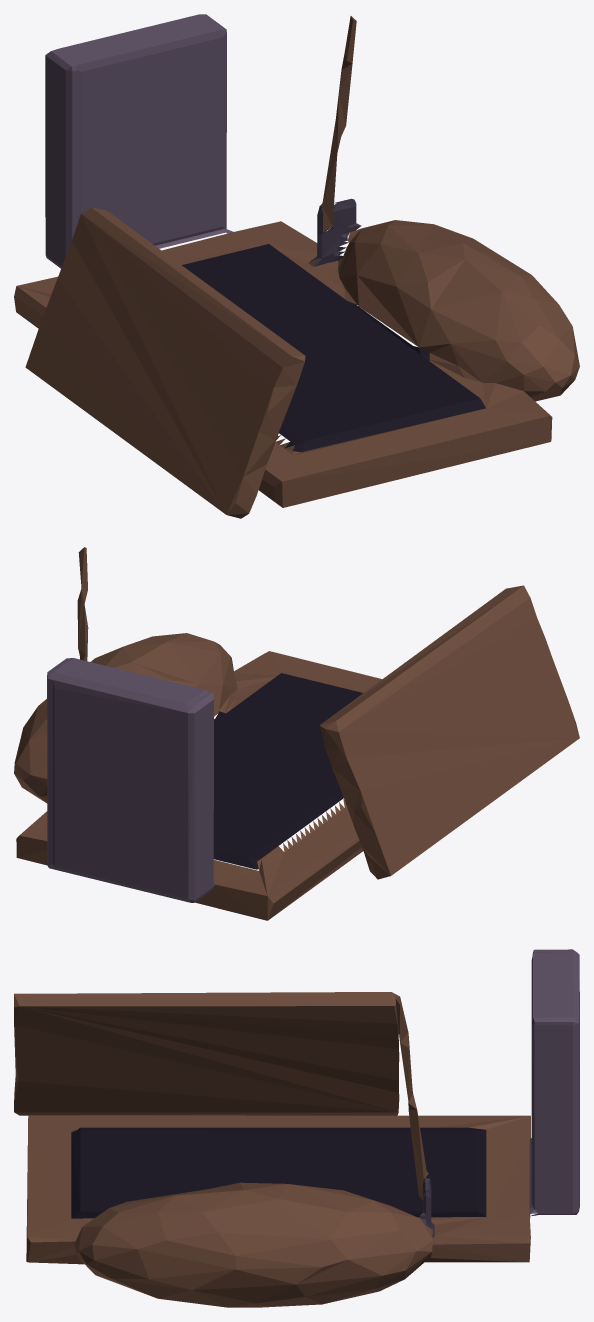
The model's file is open_grave.glb.
3 views of the same model, one above another, from view 1: azimuth 30°, elevation 25°; view 2: azimuth 150°, elevation 25°; view 3: azimuth 270°, elevation 25° (orthographic). The views are drawn at different scales.
Visible parts, largest first — view 1: open_grave; view 2: open_grave; view 3: open_grave.
Boxes of the visible parts, box(x1,y1,x2,y2) form: open_grave: box(14, 14, 579, 518); open_grave: box(14, 547, 579, 920); open_grave: box(14, 949, 579, 1307).
Bounding box in the file's own units: 1.94 × 1.32 × 2.35.
